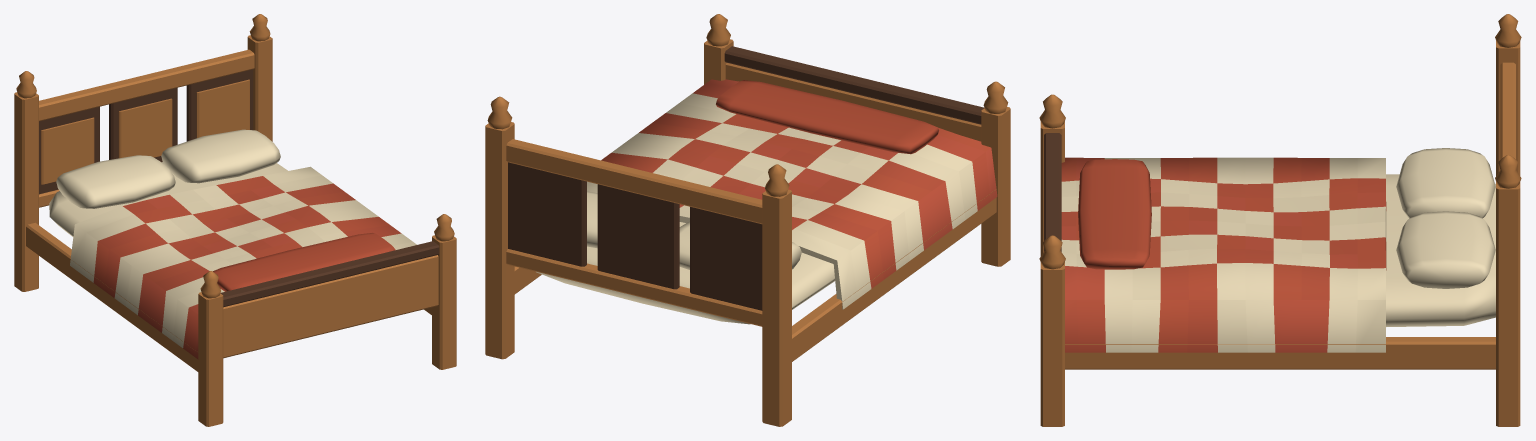
File: prop_bed_cozy_a.glb
3 views of the same model, side by side, from view 1: azimuth 30°, elevation 25°; view 2: azimuth 150°, elevation 25°; view 3: azimuth 270°, elevation 25° (orthographic). The views are drawn at different scales.
Parts seen in each view (by area): view 1: prop_bed_cozy_a_mesh; view 2: prop_bed_cozy_a_mesh; view 3: prop_bed_cozy_a_mesh.
Boxes of the visible parts, bbox=[...] form: prop_bed_cozy_a_mesh: bbox=[14, 14, 456, 426]; prop_bed_cozy_a_mesh: bbox=[485, 14, 1010, 426]; prop_bed_cozy_a_mesh: bbox=[1039, 14, 1521, 426].
Bounding box in the file's own units: 1.62 × 1.32 × 2.17.
